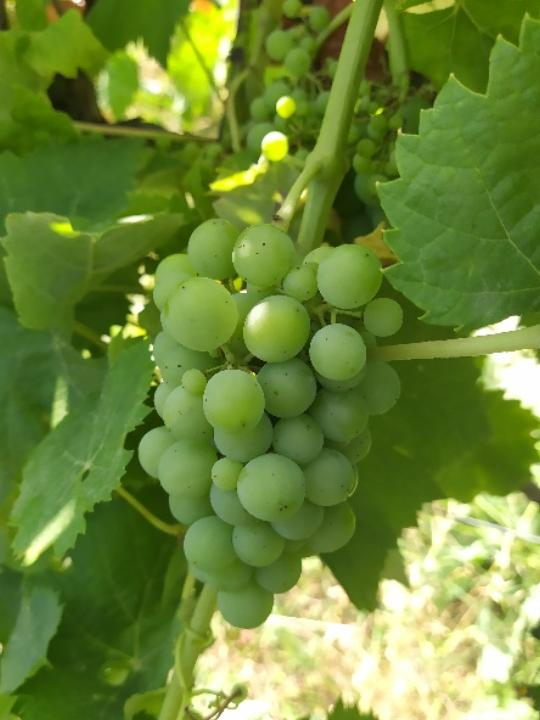grape: (135, 215, 405, 633)
